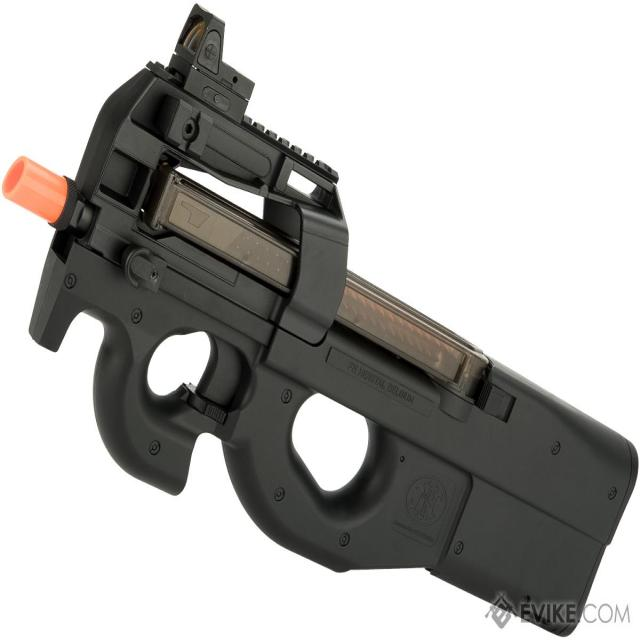SMG: (5, 5, 640, 640)
